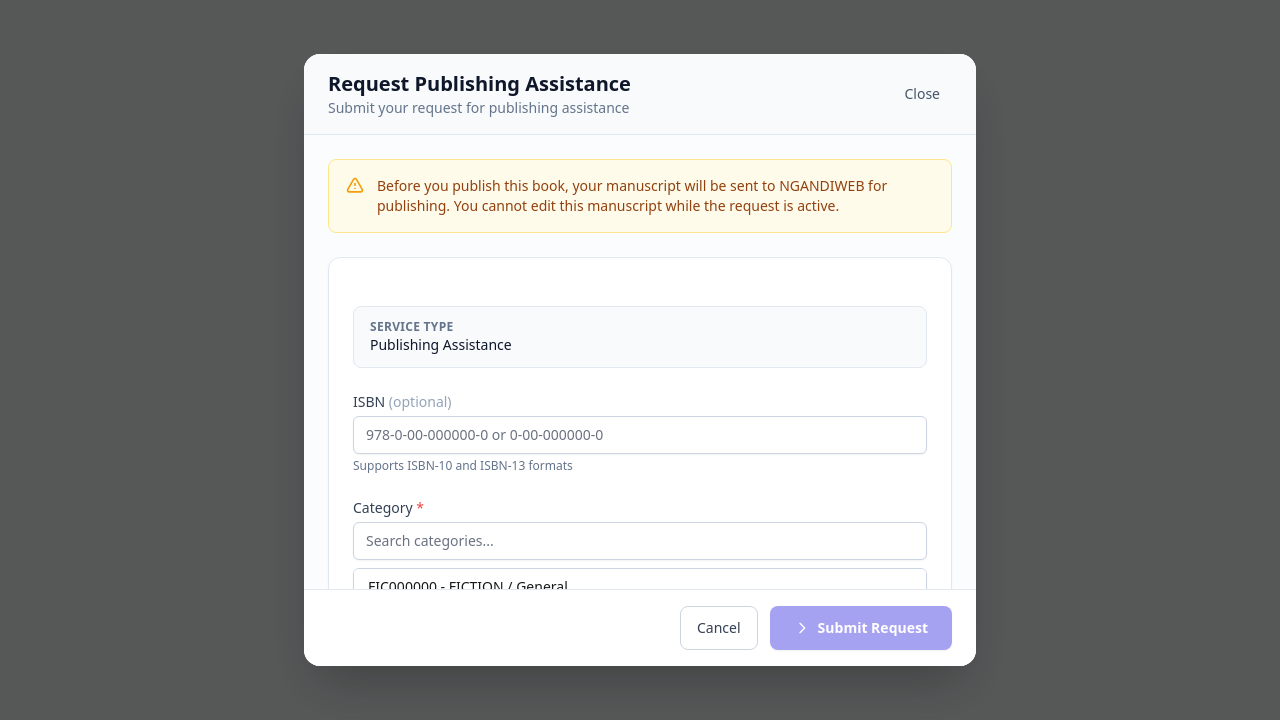
Scenario: PublishingRequestModal (Story 8.6) › Form validation › shows ISBN validation error for invalid ISBN
In the field labelled "ISBN (optional)": point(640, 435) [353,416,927,454], type "123-invalid-isbn"
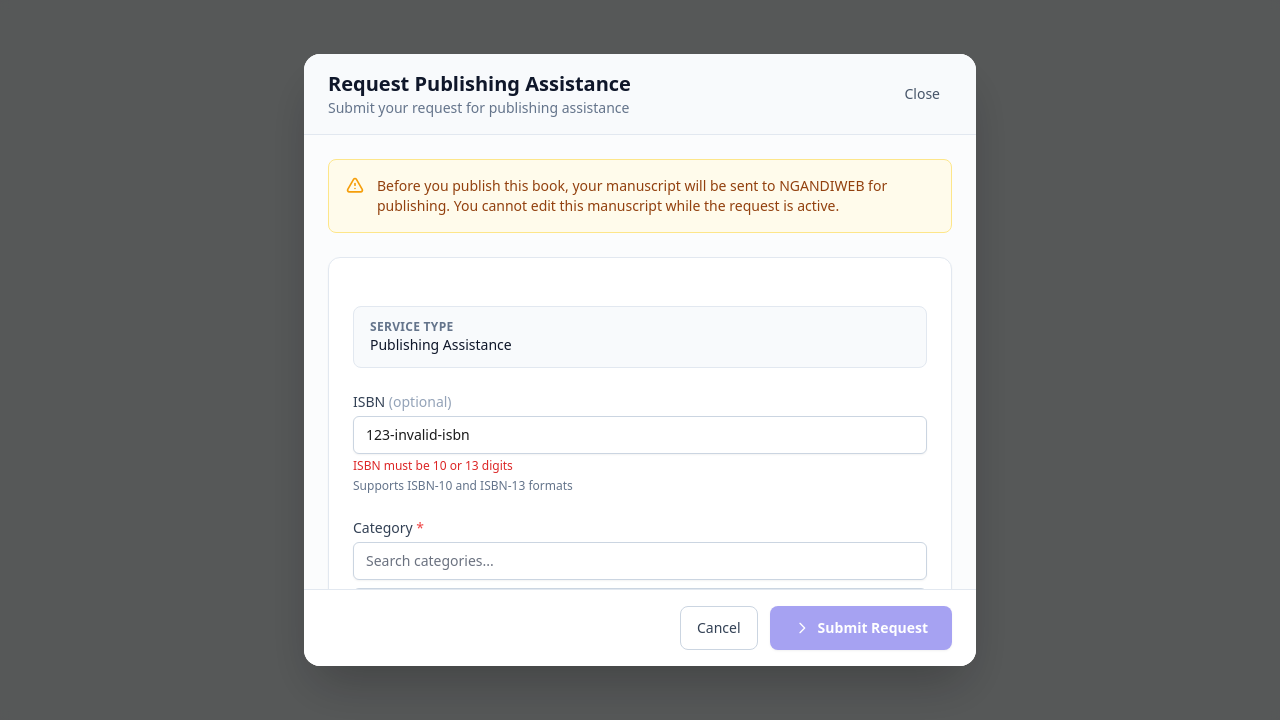
Expected: the text "ISBN must be 10 or 13 digits" is shown, [353,457,513,474]
